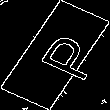P_NW: (17, 27, 93, 83)
